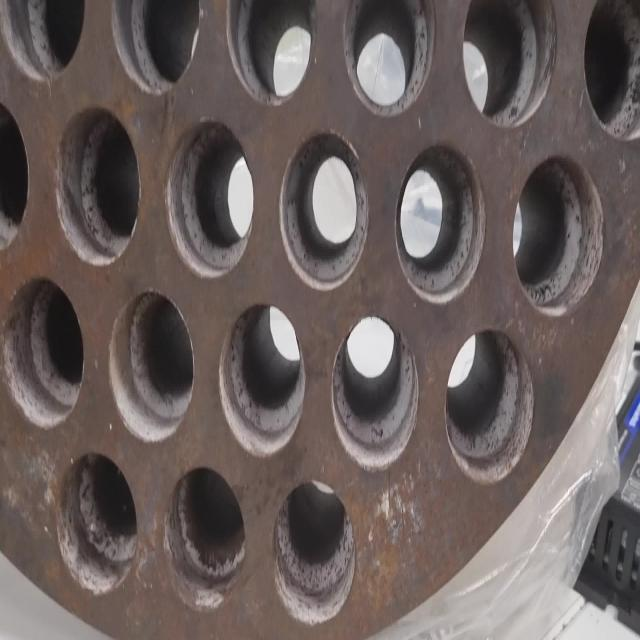Hole: (394, 141, 486, 304), (278, 129, 369, 291), (513, 154, 604, 316), (164, 118, 254, 280), (444, 327, 534, 485), (54, 106, 140, 266), (218, 302, 306, 458), (331, 315, 418, 471), (108, 291, 194, 444), (1, 276, 85, 429), (272, 479, 356, 627), (462, 0, 556, 129), (163, 465, 246, 611), (55, 451, 138, 595), (343, 1, 435, 118), (225, 1, 316, 107), (111, 0, 202, 95), (582, 0, 640, 141), (1, 0, 86, 81), (0, 96, 29, 255)
